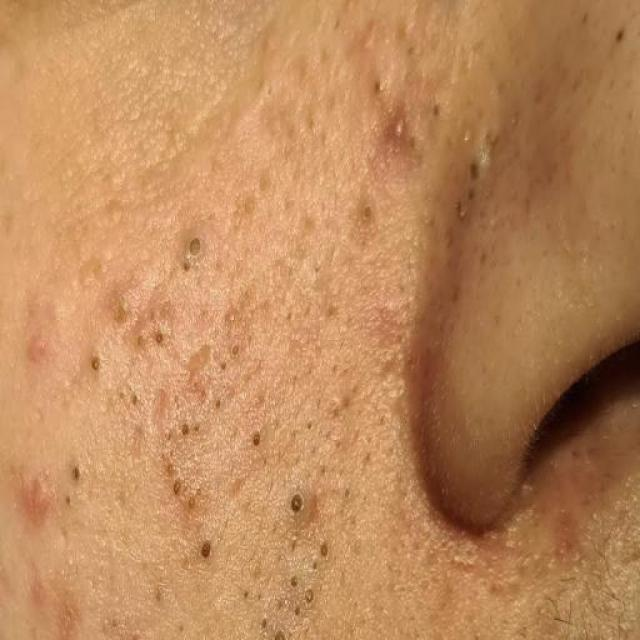blackhead: (189, 238, 201, 256), (291, 494, 303, 512), (469, 162, 479, 181), (201, 543, 210, 558), (274, 629, 285, 640), (91, 359, 99, 371), (320, 545, 328, 557), (305, 590, 313, 602), (118, 308, 126, 320), (173, 482, 180, 495), (73, 467, 80, 480), (181, 423, 188, 436), (407, 45, 415, 56), (448, 0, 462, 6), (616, 29, 623, 41), (364, 206, 371, 218), (291, 576, 298, 588), (409, 136, 416, 148), (164, 432, 172, 442), (189, 497, 195, 510), (433, 104, 439, 116), (458, 211, 466, 220), (183, 263, 191, 272), (374, 82, 381, 92), (156, 334, 163, 344), (343, 398, 350, 408), (454, 202, 462, 210), (468, 190, 474, 200), (167, 464, 173, 474), (316, 398, 321, 410), (253, 438, 260, 446), (332, 410, 339, 418), (262, 618, 267, 629), (232, 346, 238, 355), (344, 489, 350, 498), (138, 336, 143, 346), (278, 600, 283, 610), (291, 541, 296, 551), (294, 607, 300, 615), (196, 489, 202, 496), (118, 392, 124, 399), (200, 390, 206, 397), (253, 434, 260, 440), (216, 400, 221, 408), (220, 364, 226, 370), (313, 561, 317, 570), (156, 593, 160, 602), (244, 591, 248, 599), (66, 496, 70, 504), (133, 396, 137, 404), (174, 395, 178, 403), (112, 619, 116, 627), (193, 382, 198, 388), (263, 460, 267, 466), (321, 468, 325, 474), (195, 427, 199, 432), (258, 594, 261, 600), (287, 313, 290, 319), (308, 424, 311, 429), (180, 627, 183, 632), (362, 240, 365, 245), (315, 268, 318, 272), (129, 388, 132, 391)
